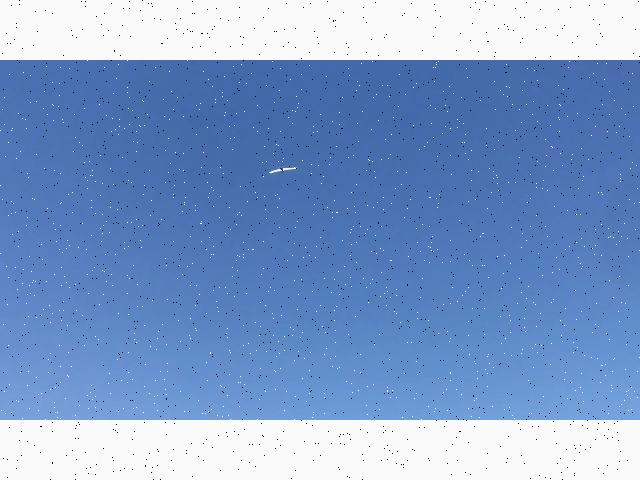Anti-Drone: (252, 156, 320, 196)
